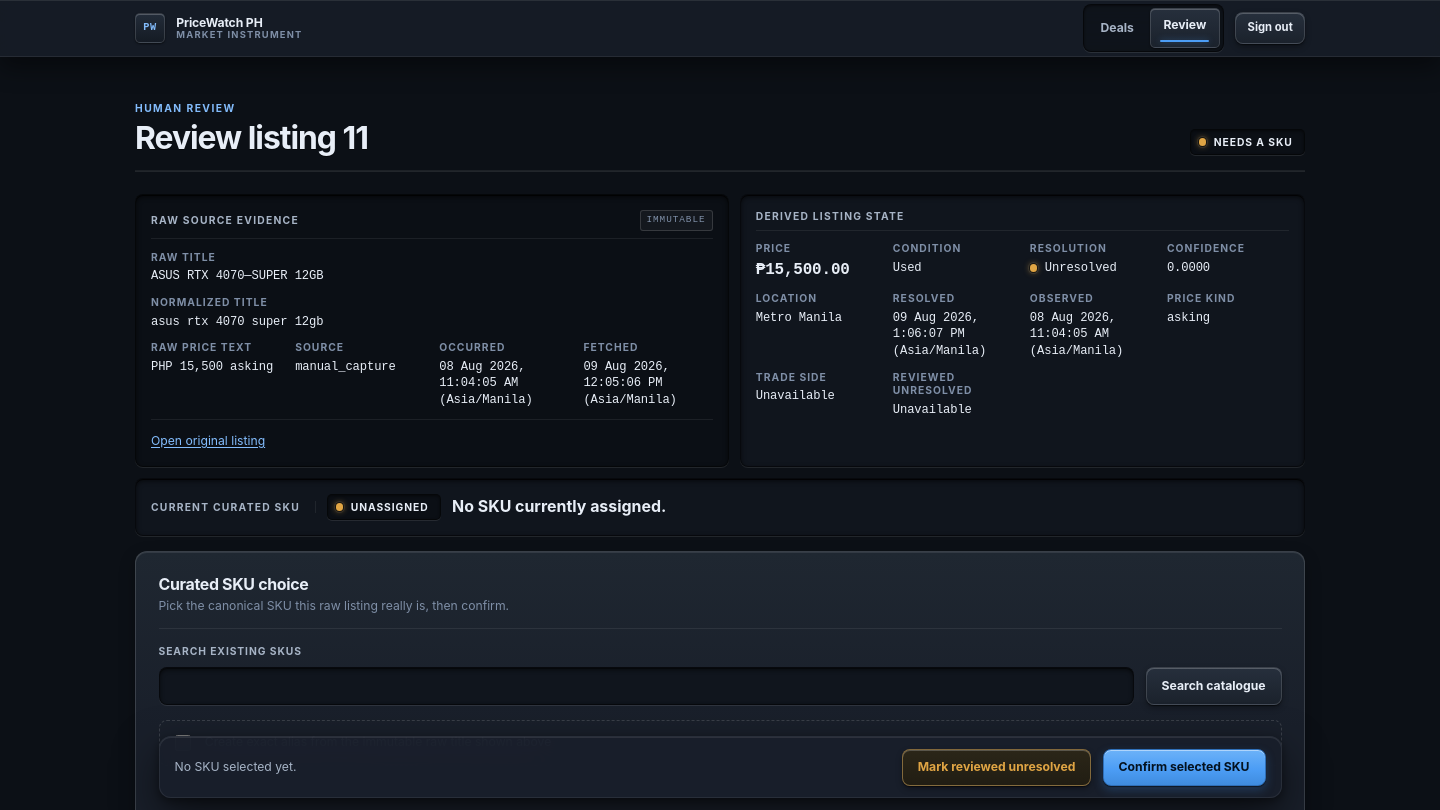
Test: TASK_026 review decisions › marks an eligible row reviewed unresolved with an exact empty JSON body
Click the button "Mark reviewed unresolved" at (996, 768), box x1=902 y1=749 x2=1091 y2=786
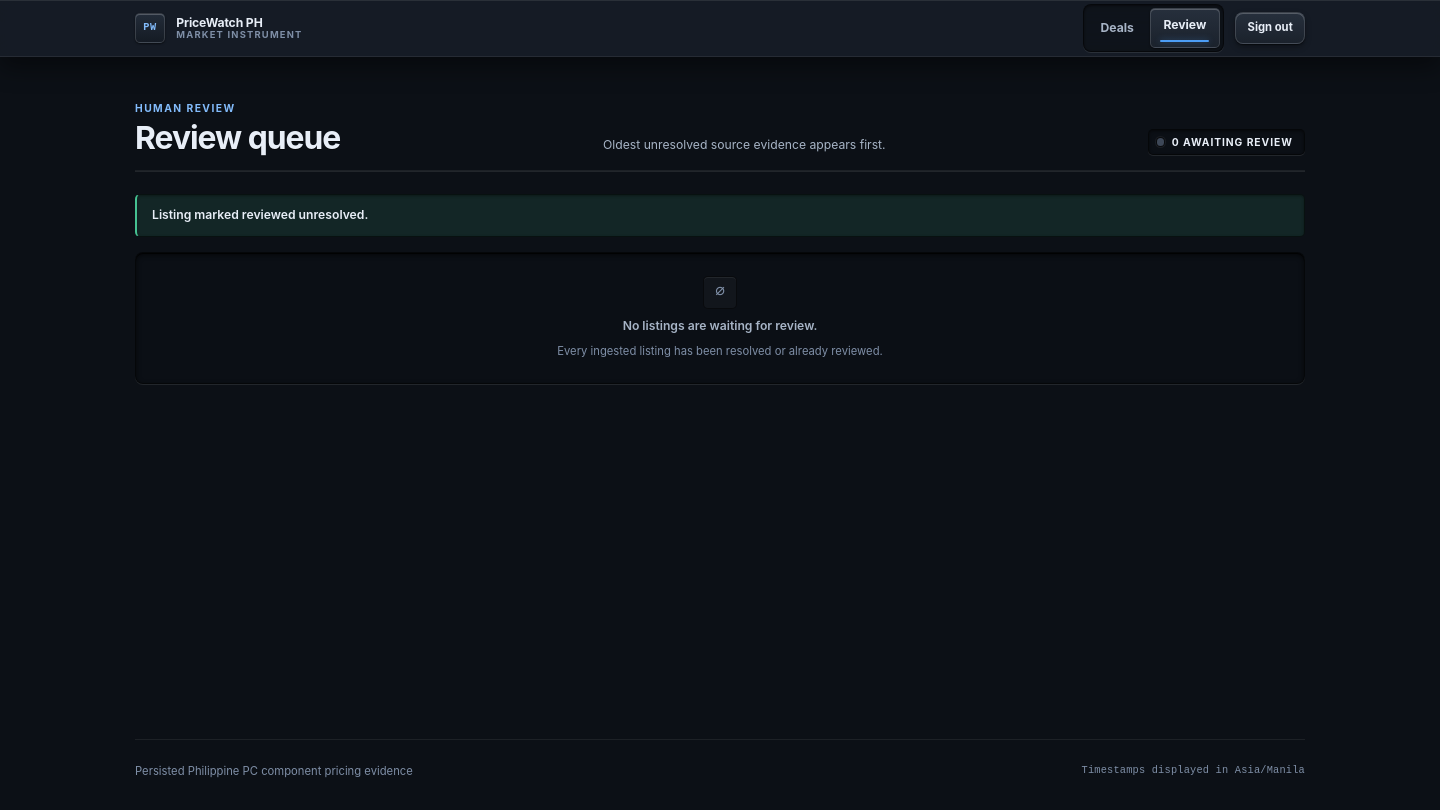
Expected: the text "Listing marked reviewed unresolved." is shown, x1=135 y1=194 x2=1305 y2=237
Expected: the heading "Review queue" is shown, x1=135 y1=121 x2=340 y2=155
